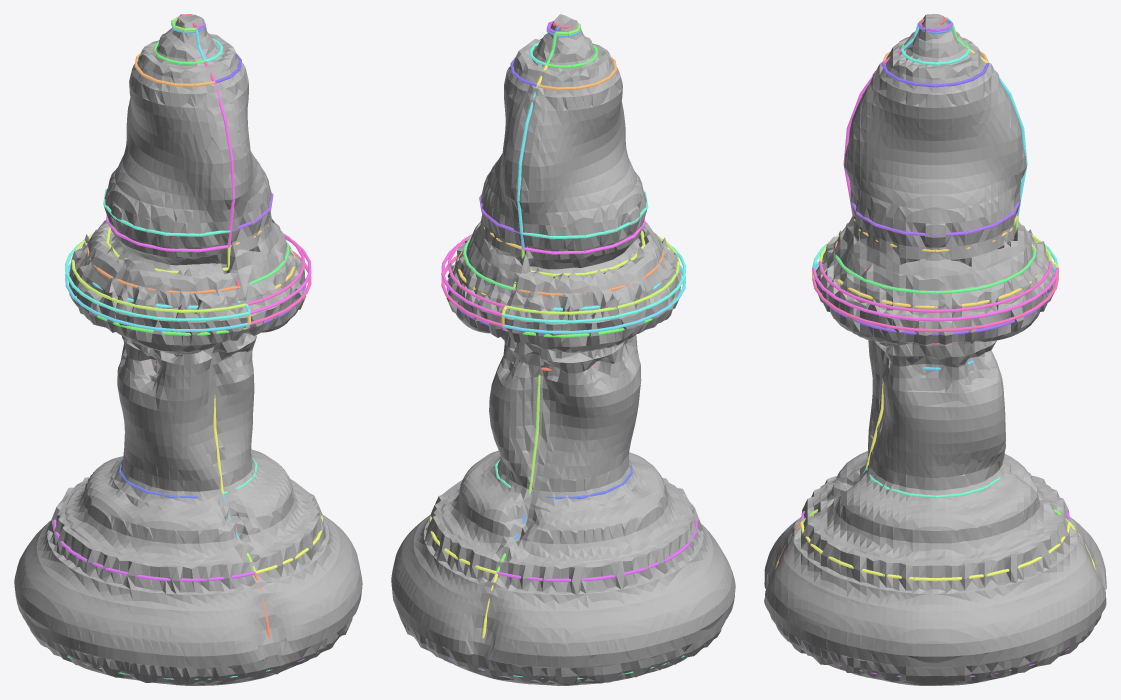
The model's file is onshape_bishop.gltf.
3 views of the same model, side by side, from view 1: azimuth 30°, elevation 25°; view 2: azimuth 150°, elevation 25°; view 3: azimuth 270°, elevation 25° (orthographic).
Bounding box in the file's own units: 0.4434 × 0.8825 × 0.4305.
